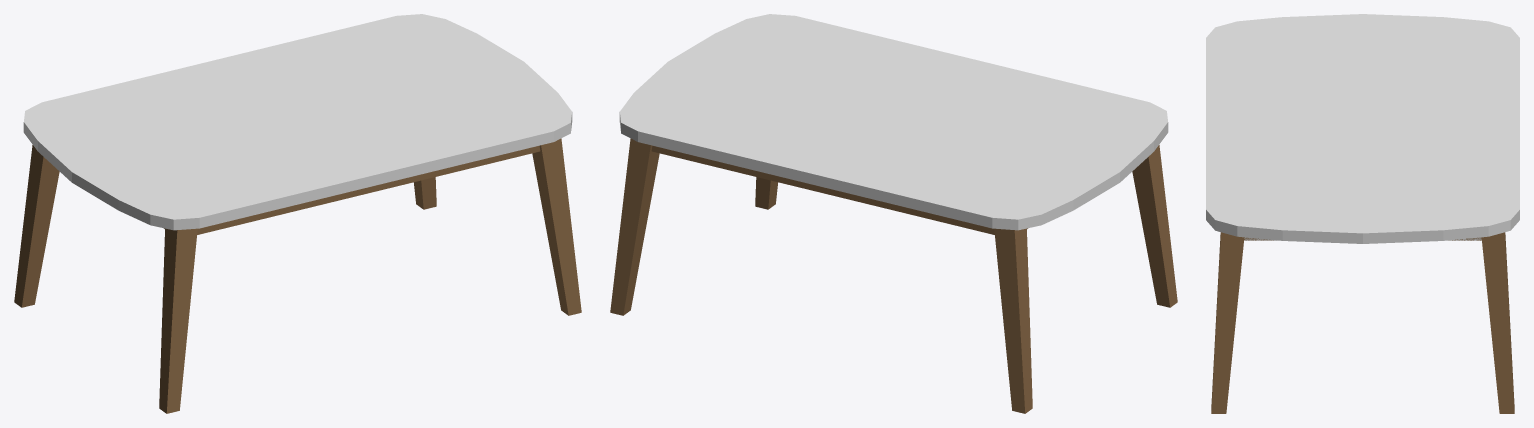
Rendered from SmallTable_01_C1.fbx.
3 renders of one model, left to right at view 1: azimuth 30°, elevation 25°; view 2: azimuth 150°, elevation 25°; view 3: azimuth 270°, elevation 25°, orthographic.
Visible parts, largest first — view 1: SmallTable_01_C1; view 2: SmallTable_01_C1; view 3: SmallTable_01_C1.
Boxes of the visible parts, x1,y1,x2,y2 form: SmallTable_01_C1: (14,14,581,413); SmallTable_01_C1: (610,14,1177,413); SmallTable_01_C1: (1206,14,1519,413).
Bounding box in the file's own units: 109 × 43.91 × 65.85.
